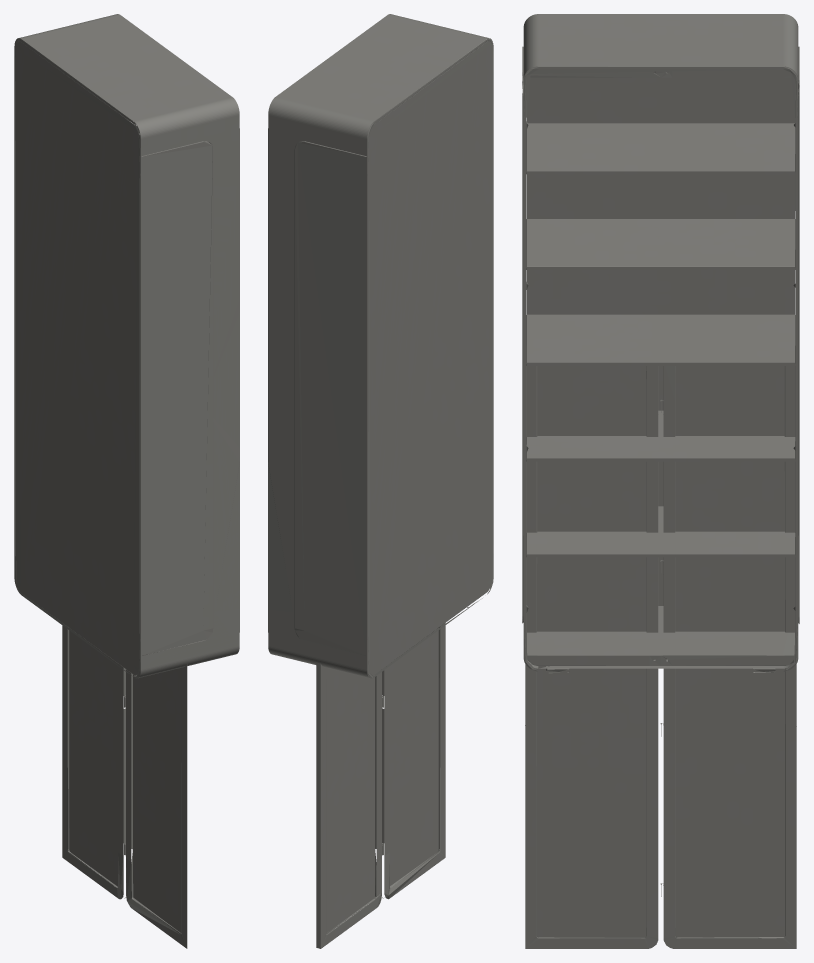
The model's file is cabinet_file_a03.glb.
3 views of the same model, side by side, from view 1: azimuth 30°, elevation 25°; view 2: azimuth 150°, elevation 25°; view 3: azimuth 270°, elevation 25° (orthographic). The views are drawn at different scales.
Visible parts, largest first — view 1: geometry_0; view 2: geometry_0; view 3: geometry_0.
Boxes of the visible parts, x1,y1,x2,y2 form: geometry_0: (14, 14, 239, 948); geometry_0: (268, 14, 493, 948); geometry_0: (522, 14, 799, 948).
Size of the model in its own units: 0.0526 by 0.42 by 0.1163.
Materials: 1 (1 with a texture image).
